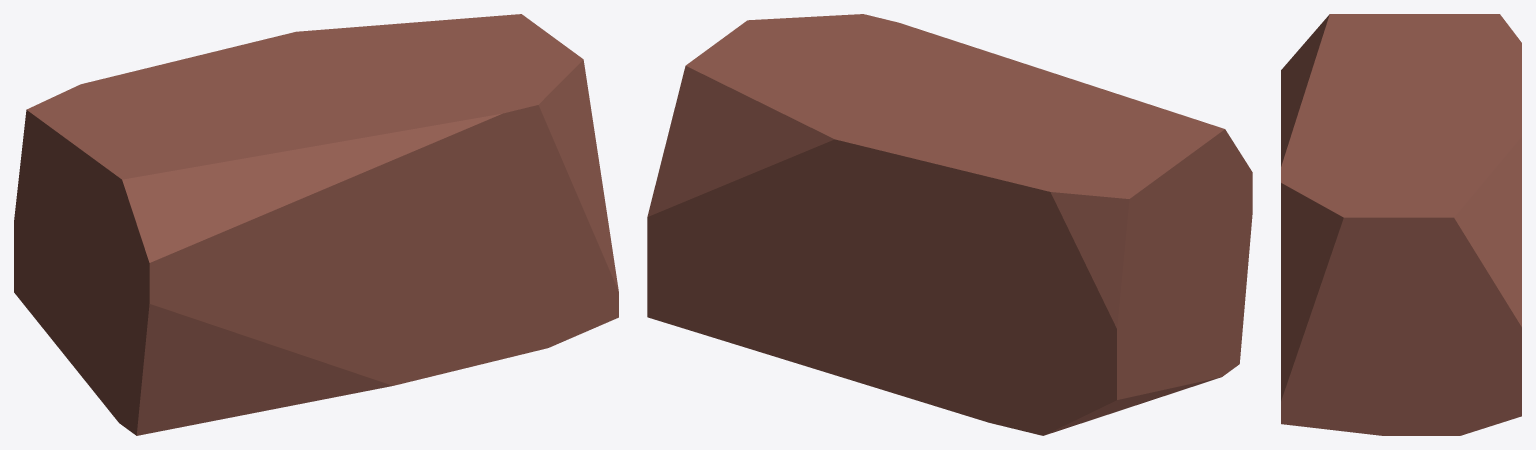
Rendered from Brick_B_01.FBX.
3 renders of one model, left to right at view 1: azimuth 30°, elevation 25°; view 2: azimuth 150°, elevation 25°; view 3: azimuth 270°, elevation 25°, orthographic. The views are drawn at different scales.
Visible parts, largest first — view 1: Brick_B_01; view 2: Brick_B_01; view 3: Brick_B_01.
Boxes of the visible parts, <box> form: Brick_B_01: <box>14,14,618,435</box>; Brick_B_01: <box>647,14,1252,435</box>; Brick_B_01: <box>1281,14,1521,435</box>.
Bounding box in the file's own units: 1.13 × 0.5673 × 0.5673.
